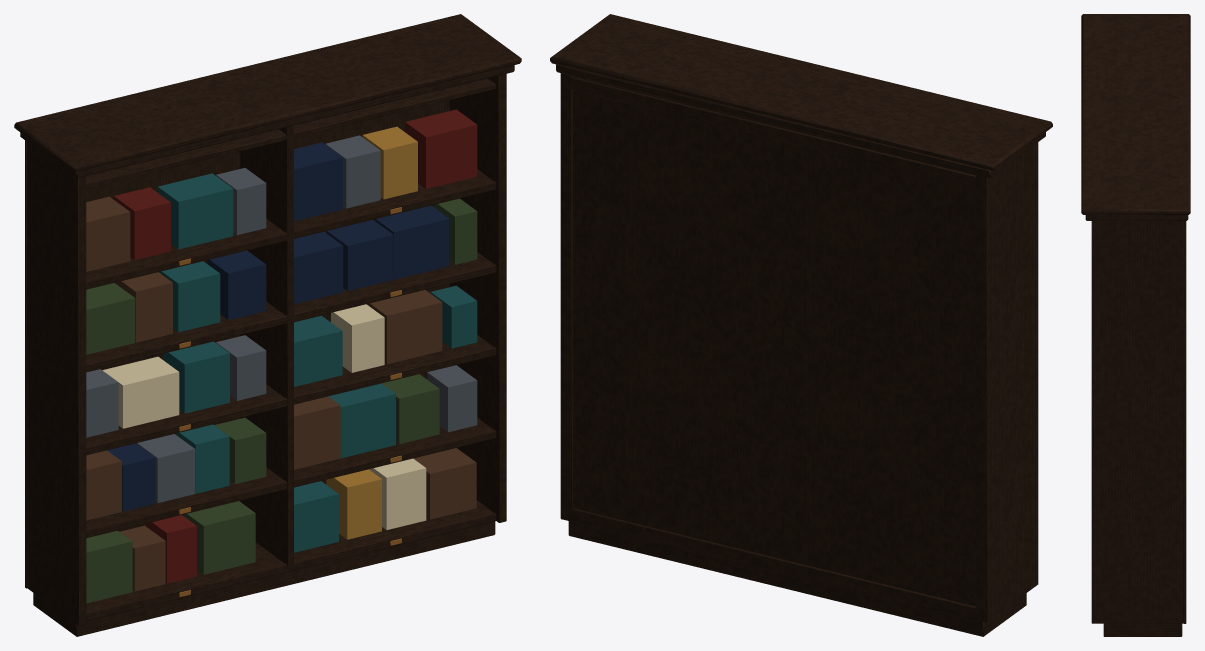
The model's file is archive-bookcase.lod1.glb.
3 views of the same model, side by side, from view 1: azimuth 30°, elevation 25°; view 2: azimuth 150°, elevation 25°; view 3: azimuth 270°, elevation 25° (orthographic). The views are drawn at different scales.
Visible parts, largest first — view 1: archive_bookcase_Timber • oiled walnut, archive_bookcase_Trim • places palette; view 2: archive_bookcase_Timber • oiled walnut; view 3: archive_bookcase_Timber • oiled walnut.
Part boxes in pixels (x1,y1,x2,y2): archive_bookcase_Timber • oiled walnut: [14, 14, 521, 636]; archive_bookcase_Trim • places palette: [86, 109, 477, 603]; archive_bookcase_Timber • oiled walnut: [550, 14, 1052, 636]; archive_bookcase_Timber • oiled walnut: [1081, 14, 1190, 636].
Size of the model in its own units: 2.72 by 2.8 by 0.64.
2 materials, 2 textured.
